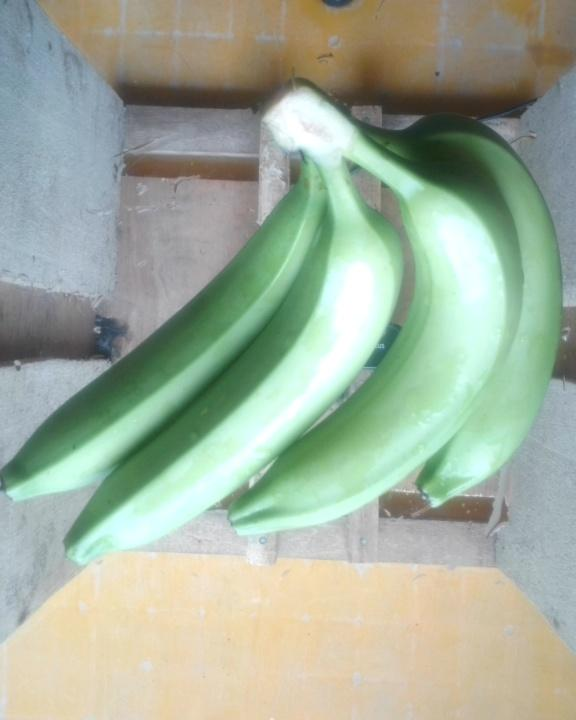SPOT: (1, 65, 569, 578)
